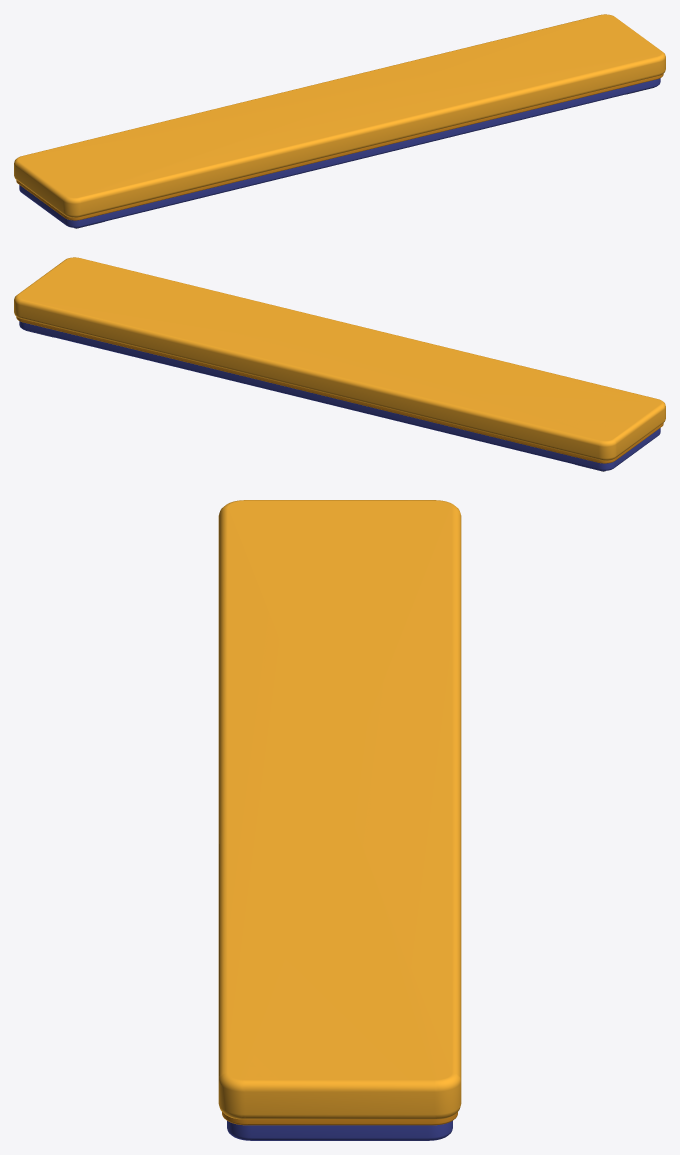
The model's file is StraightFloorInlay.glb.
3 renders of one model, top to bottom at view 1: azimuth 30°, elevation 25°; view 2: azimuth 150°, elevation 25°; view 3: azimuth 270°, elevation 25°, orthographic. The views are drawn at different scales.
Parts seen in each view (by area): view 1: GoldBeveledTop, BlueCarrierBase, GoldUnderLip; view 2: GoldBeveledTop, BlueCarrierBase, GoldUnderLip; view 3: GoldBeveledTop, BlueCarrierBase, GoldUnderLip.
Part boxes in pixels (left/top/right/bottom): GoldBeveledTop: left=14, top=14, right=665, bottom=217; BlueCarrierBase: left=19, top=78, right=660, bottom=227; GoldUnderLip: left=16, top=73, right=663, bottom=220; GoldBeveledTop: left=14, top=257, right=665, bottom=460; BlueCarrierBase: left=19, top=321, right=660, bottom=470; GoldUnderLip: left=16, top=316, right=663, bottom=463; GoldBeveledTop: left=218, top=500, right=461, bottom=1119; BlueCarrierBase: left=227, top=1121, right=452, bottom=1140; GoldUnderLip: left=222, top=1112, right=457, bottom=1125.
Size of the model in its own units: 1.51 by 0.08 by 0.264.
Materials: 7 (7 with a texture image).
